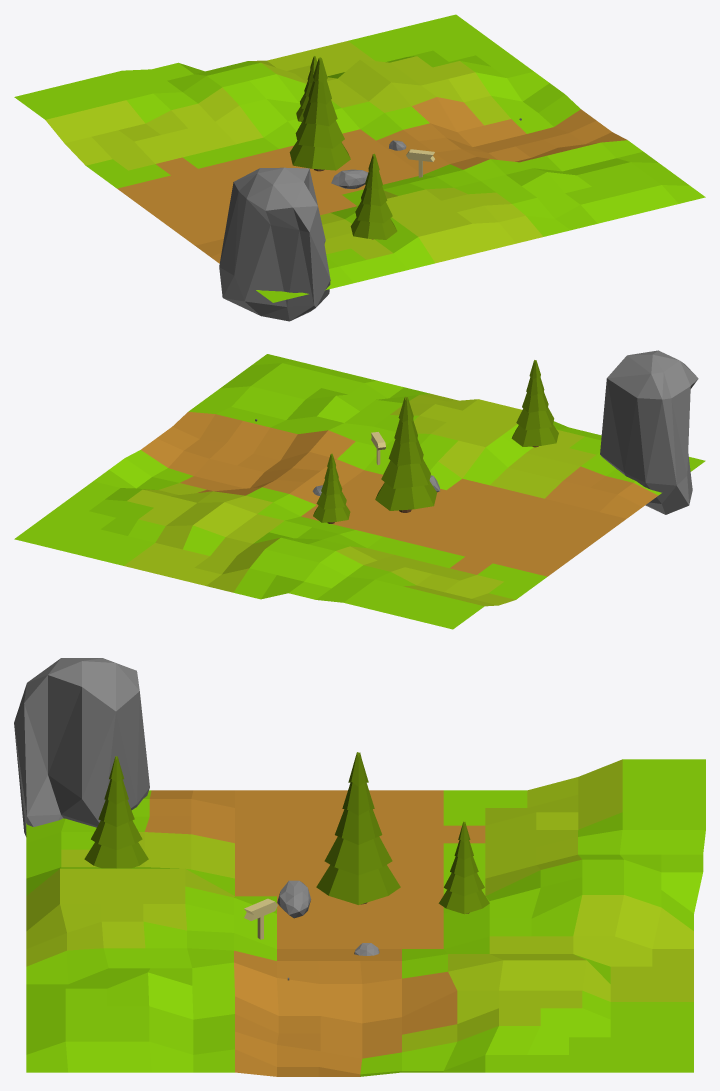
The model's file is Paisaje.fbx.
3 views of the same model, one above another, from view 1: azimuth 30°, elevation 25°; view 2: azimuth 150°, elevation 25°; view 3: azimuth 270°, elevation 25° (orthographic). The views are drawn at different scales.
Visible parts, largest first — view 1: Piso, Icosphere, Hoja_p, Hoja_p.002, piedra; view 2: Piso, Icosphere, Hoja_p, Hoja_p.002, Hoja_p.001; view 3: Piso, Icosphere, Hoja_p, Hoja_p.002, Hoja_p.001, piedra.
Boxes of the visible parts, left/top/right/bottom form: Piso: left=14, top=14, right=705, bottom=302; Icosphere: left=219, top=167, right=330, bottom=321; Hoja_p: left=289, top=57, right=350, bottom=170; Hoja_p.002: left=350, top=153, right=397, bottom=239; piedra: left=331, top=169, right=368, bottom=188; Piso: left=14, top=354, right=705, bottom=629; Icosphere: left=600, top=350, right=698, bottom=514; Hoja_p: left=375, top=396, right=436, bottom=510; Hoja_p.002: left=511, top=360, right=558, bottom=446; Hoja_p.001: left=313, top=453, right=350, bottom=522; Piso: left=26, top=759, right=705, bottom=1076; Icosphere: left=14, top=658, right=149, bottom=836; Hoja_p: left=316, top=752, right=400, bottom=904; Hoja_p.002: left=84, top=756, right=148, bottom=868; Hoja_p.001: left=438, top=821, right=489, bottom=914; piedra: left=277, top=880, right=310, bottom=918.
Bounding box in the file's own units: 4069 × 1293 × 4058.
